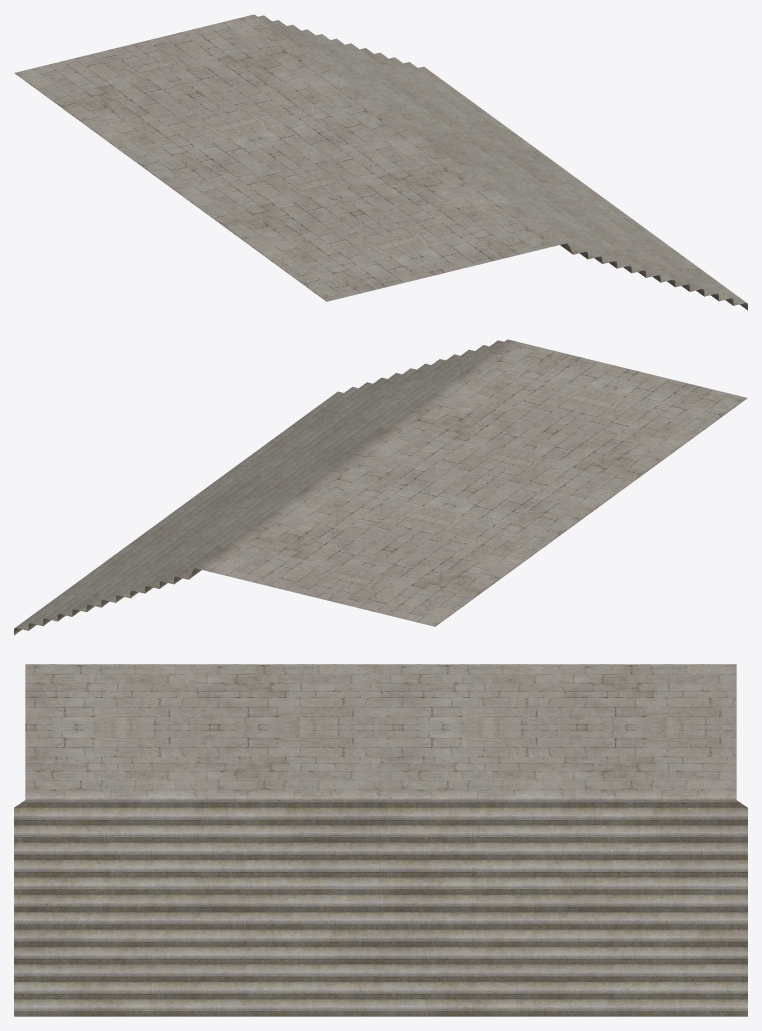
File: Stairs1.fbx
3 renders of one model, top to bottom at view 1: azimuth 30°, elevation 25°; view 2: azimuth 150°, elevation 25°; view 3: azimuth 270°, elevation 25°, orthographic. The views are drawn at different scales.
Parts seen in each view (by area): view 1: LV_Campagna_Uni_BigStair_SM_CJH; view 2: LV_Campagna_Uni_BigStair_SM_CJH; view 3: LV_Campagna_Uni_BigStair_SM_CJH.
Part boxes in pixels (left/top/right/bottom): LV_Campagna_Uni_BigStair_SM_CJH: left=14, top=14, right=747, bottom=310; LV_Campagna_Uni_BigStair_SM_CJH: left=14, top=339, right=747, bottom=635; LV_Campagna_Uni_BigStair_SM_CJH: left=14, top=664, right=747, bottom=1016.
Size of the model in its own units: 2.86 by 0.7 by 3.84.
